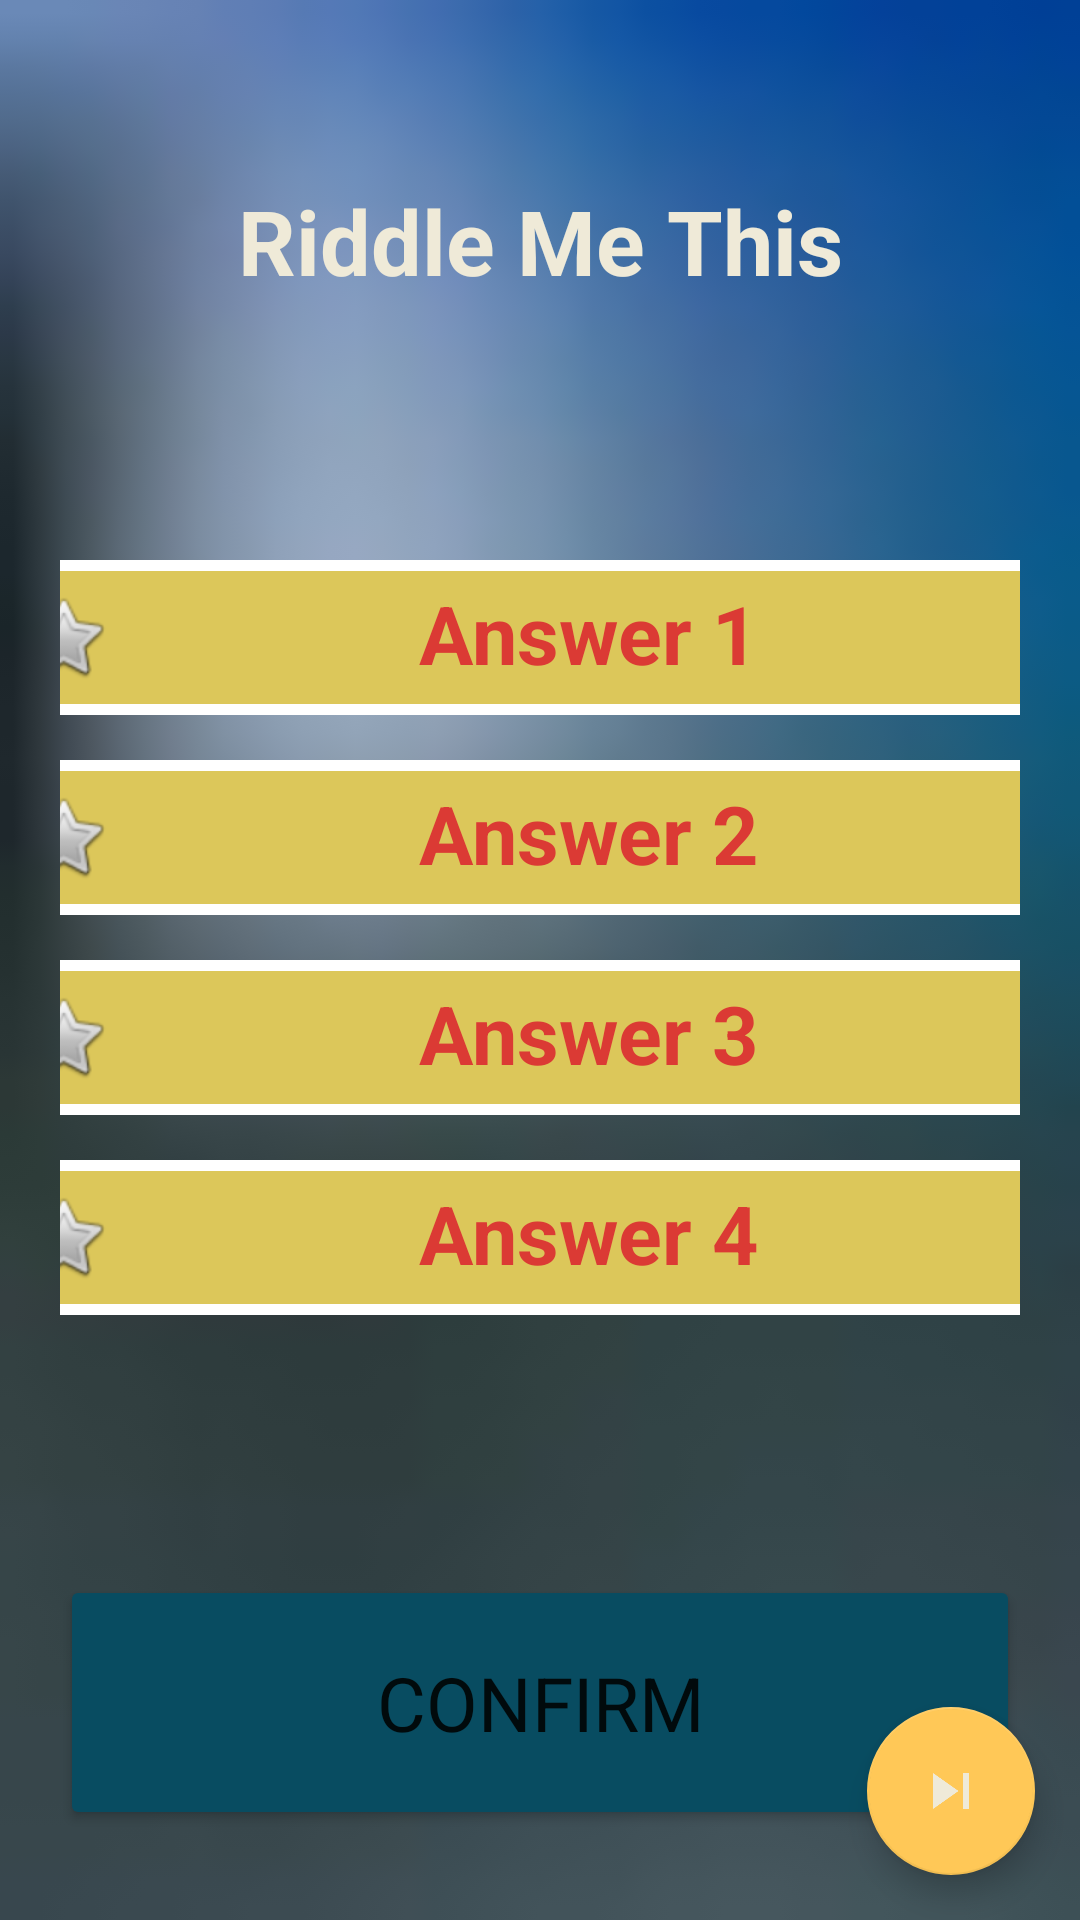

Screen size 1080w x 1920h. Icon name, then its center in pixels as (x=x, y=y):
skip next: (x=951, y=1791)
